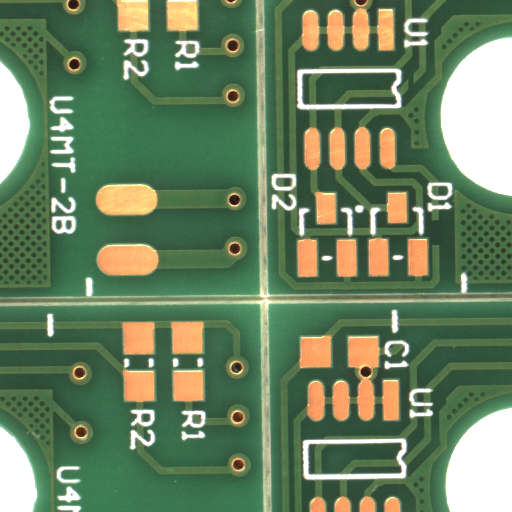Open_circuit: (434, 232, 444, 259), (410, 83, 419, 104)
